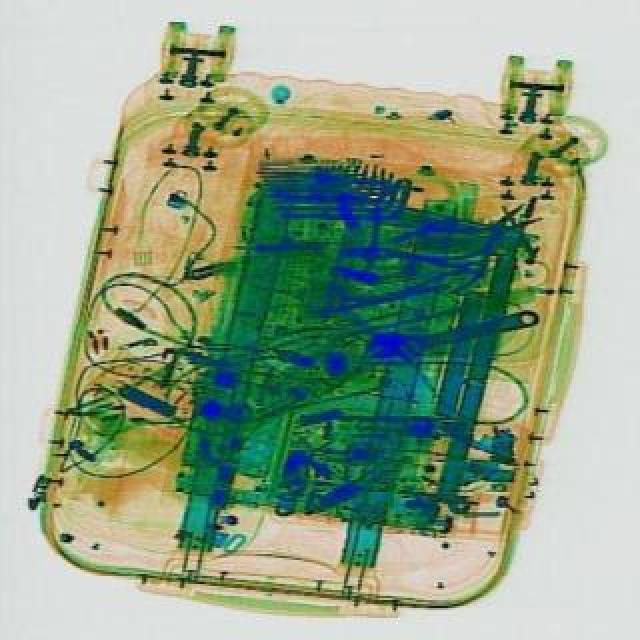scissors: (364, 296, 540, 368)
wrench: (388, 178, 554, 304), (332, 236, 480, 306)
